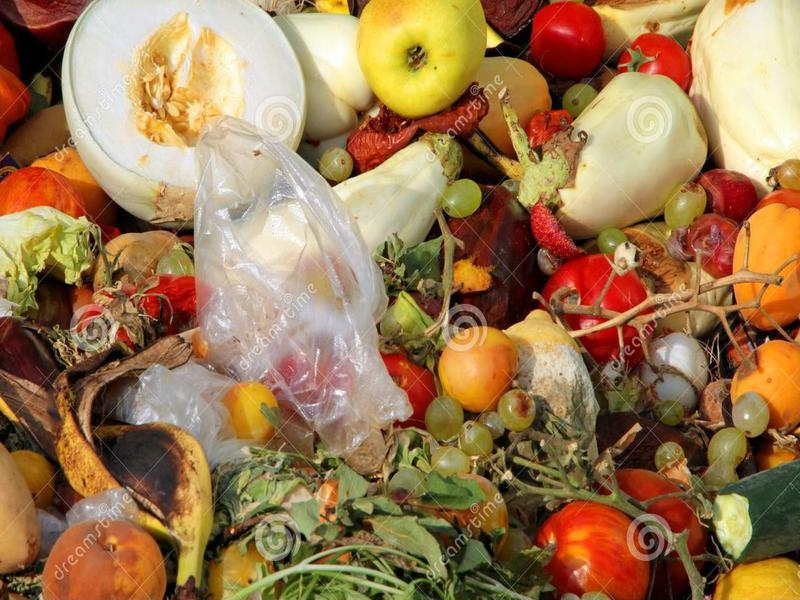vegetation: (4, 1, 797, 600)
